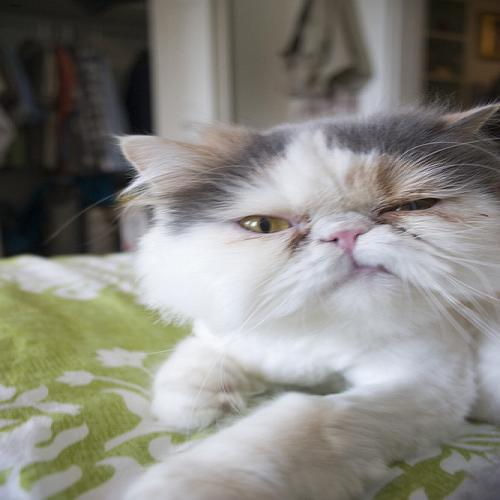persian: (100, 82, 500, 362)
